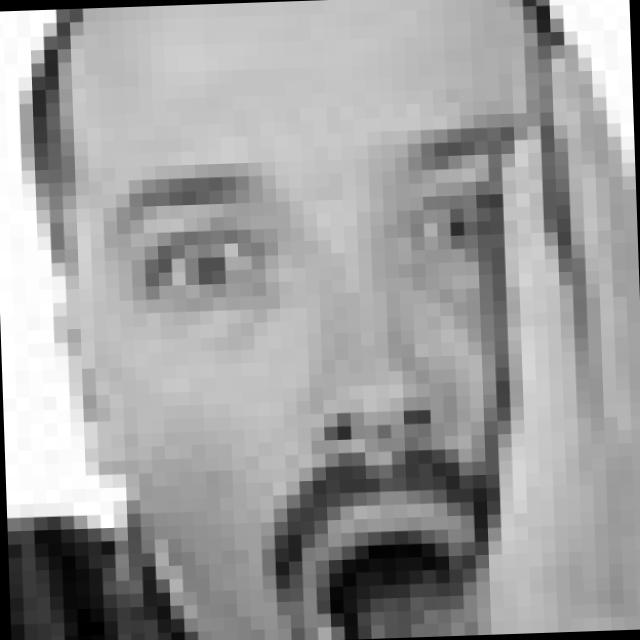surprise: (94, 94, 539, 640)
